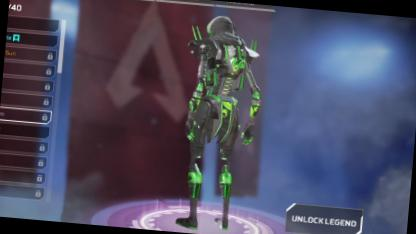Target: (176, 11, 260, 201)
